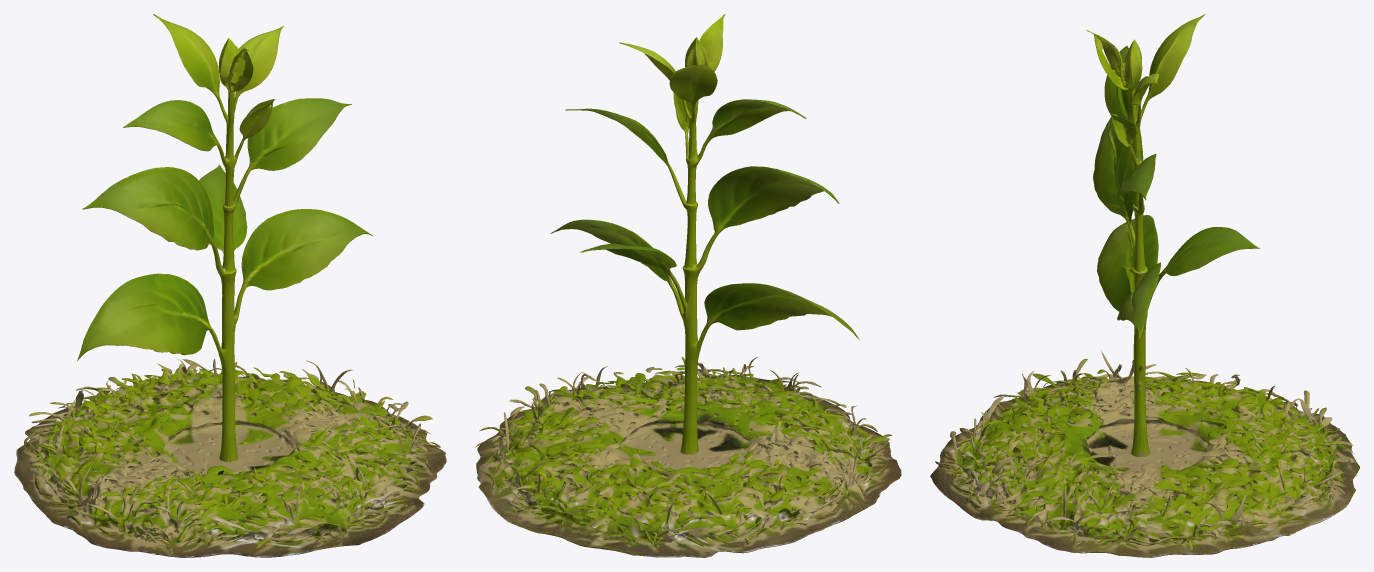
Rendered from base_basic_pbr.fbx.
3 views of the same model, side by side, from view 1: azimuth 30°, elevation 25°; view 2: azimuth 150°, elevation 25°; view 3: azimuth 270°, elevation 25° (orthographic). The views are drawn at different scales.
Visible parts, largest first — view 1: model; view 2: model; view 3: model.
Boxes of the visible parts, left/top/right/bottom form: model: left=14, top=14, right=446, bottom=557; model: left=475, top=14, right=901, bottom=557; model: left=930, top=14, right=1359, bottom=557.
Bounding box in the file's own units: 164 × 190 × 168.
1 material, 1 textured.
